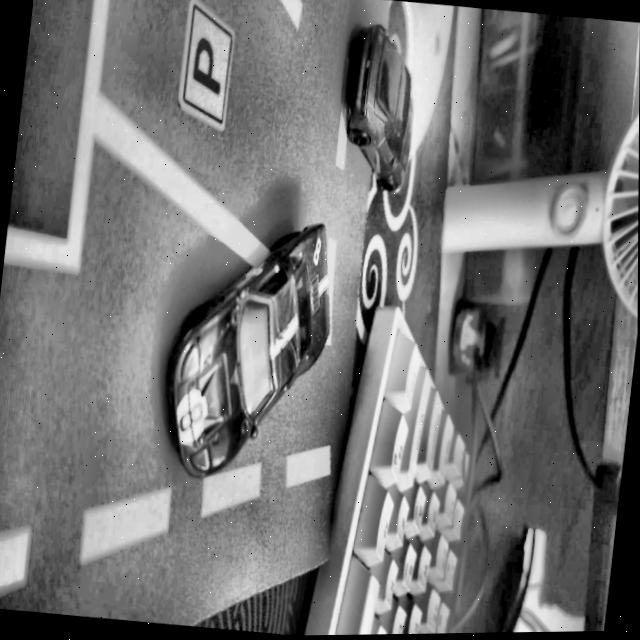car: (158, 207, 343, 491), (338, 21, 423, 195)
